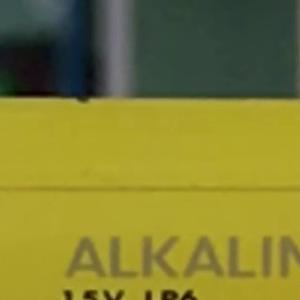ALK: (59, 230, 177, 285)
